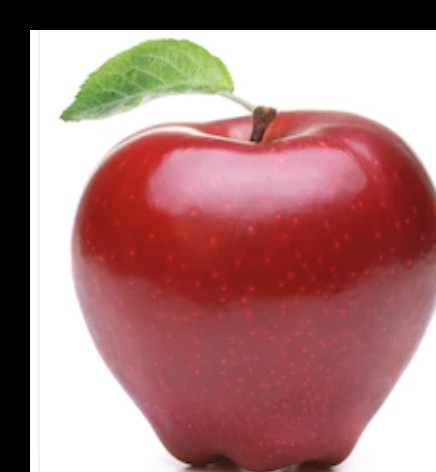fresh_apple: (76, 117, 436, 472)
